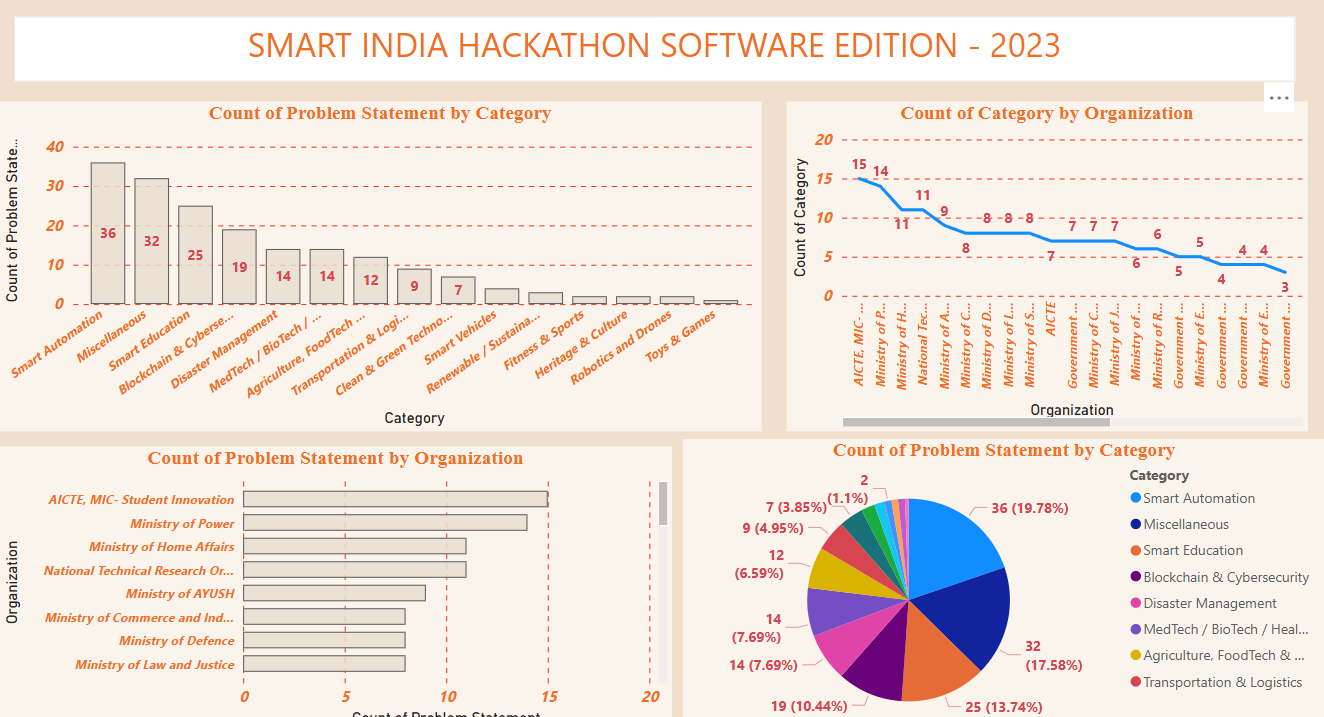

The dashboard page shown, as its layout file describes it:
{"tool":"powerbi","page":{"name":"Page 1","canvas":[1280,720],"ordinal":0},"visuals":[{"type":"clusteredColumnChart","fields":{"Category":["Final Sheet.Category"],"Y":["CountNonNull(Final Sheet.Problem Statement)"]},"box":[0,103.8,735.9,318.5],"z":0},{"type":"barChart","fields":{"Category":["Final Sheet.Organization"],"Y":["CountNonNull(Final Sheet.Problem Statement)"]},"box":[0,436.9,649.8,275.7],"z":1000},{"type":"lineChart","fields":{"Category":["Final Sheet.Organization"],"Y":["CountNonNull(Final Sheet.Category)"]},"box":[760.1,103.8,503.1,318.5],"z":2000},{"type":"pieChart","fields":{"Category":["Final Sheet.Category"],"Y":["CountNonNull(Final Sheet.Problem Statement)"]},"box":[659.7,429.5,620.3,290.5],"z":3000},{"type":"textbox","box":[14.5,21.7,1236.6,62.7],"z":4000}]}

Visuals, with their boxes on the page's 1280x720 design canvas (x1, y1, x2, y2). These are canvas units, not pixel positions in the 1324x717 screenshot, which may show the page scaled, cropped or inside an application window:
clusteredColumnChart - Final Sheet.Category x CountNonNull(Final Sheet.Problem Statement): [0, 104, 736, 422]
barChart - Final Sheet.Organization x CountNonNull(Final Sheet.Problem Statement): [0, 437, 650, 713]
lineChart - Final Sheet.Organization x CountNonNull(Final Sheet.Category): [760, 104, 1263, 422]
pieChart - Final Sheet.Category x CountNonNull(Final Sheet.Problem Statement): [660, 430, 1280, 720]
textbox: [14, 22, 1251, 84]
